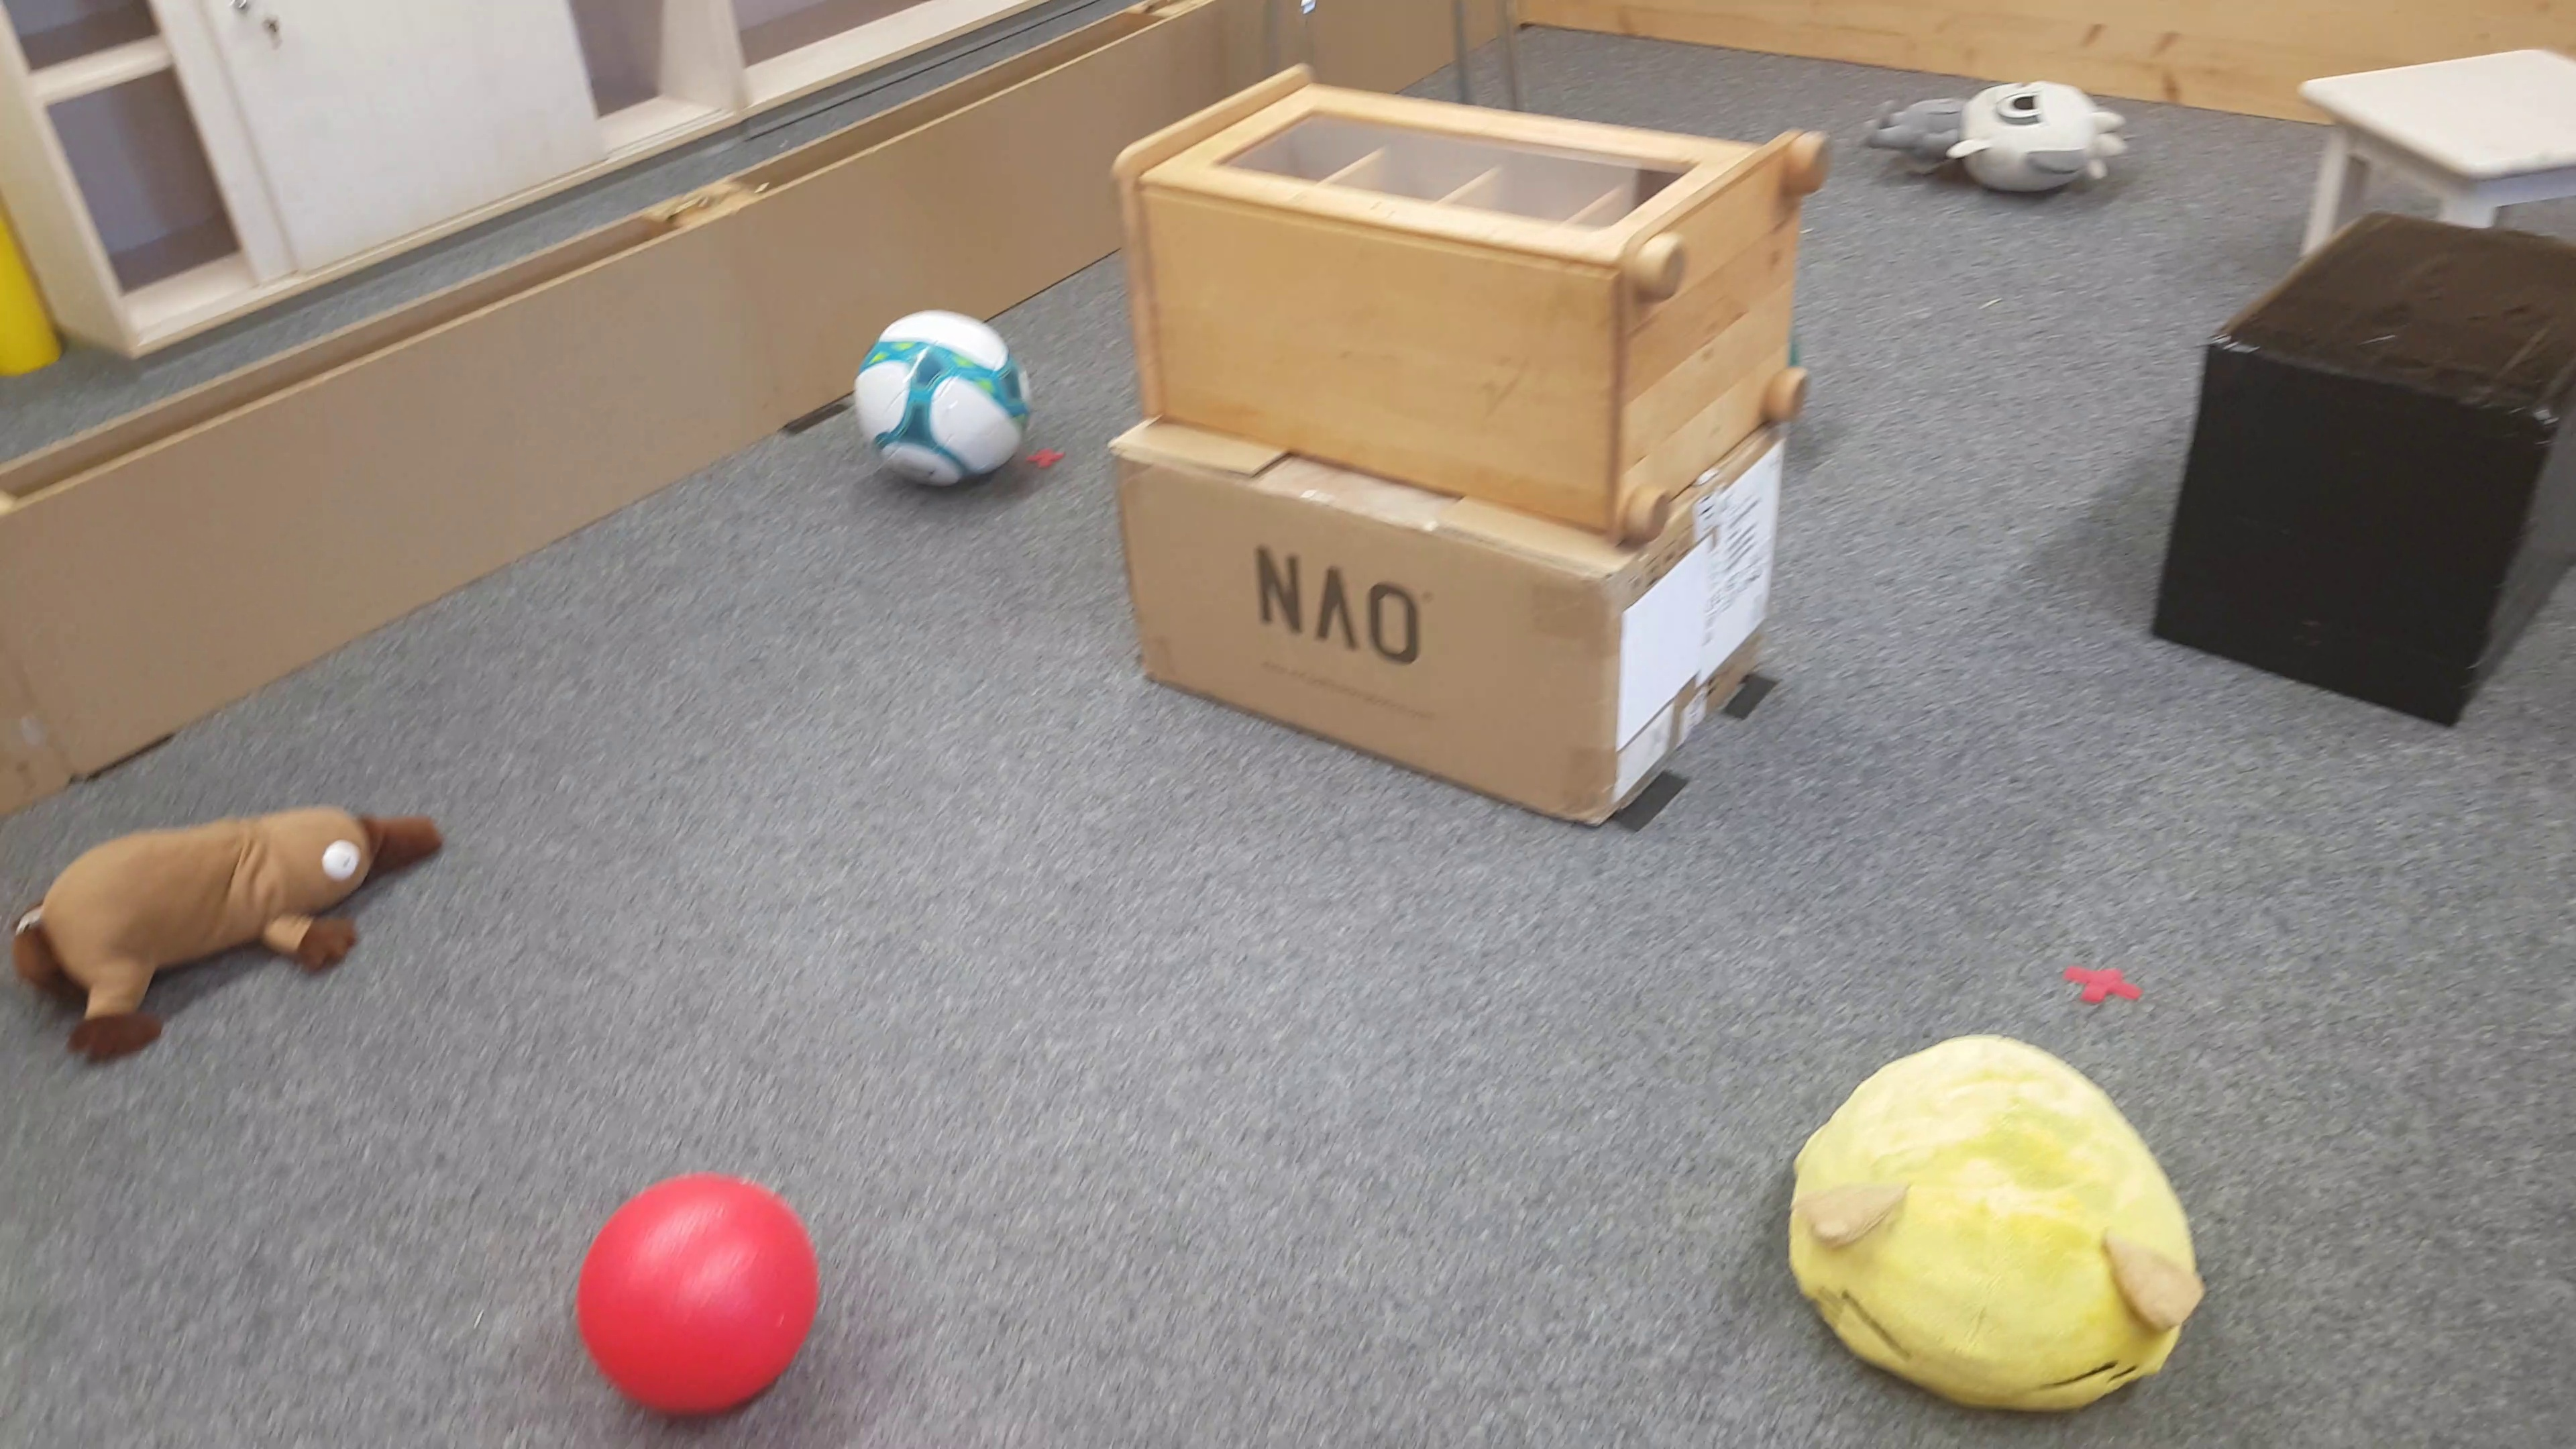grasp: (1789, 1030, 2201, 1421), (19, 805, 448, 1058), (1863, 80, 2128, 214)
kick: (573, 1168, 824, 1407), (853, 311, 1033, 501)
push: (2150, 216, 2576, 750)
